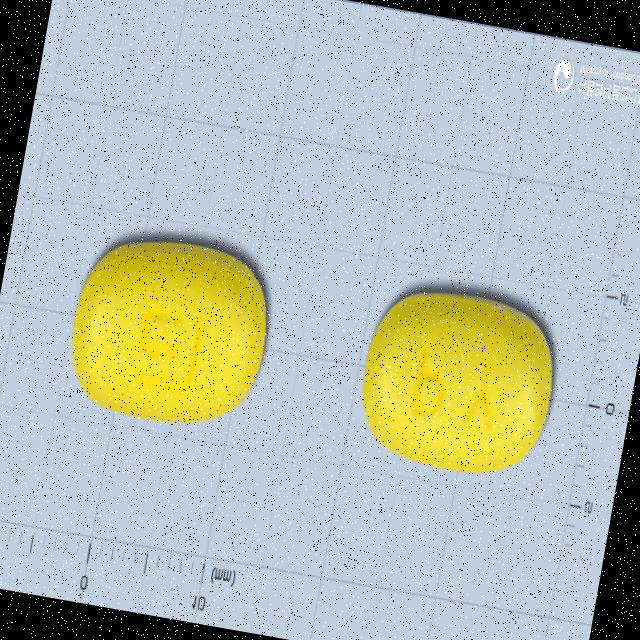Pilocin Tab: (59, 226, 279, 436), (350, 280, 566, 482)
